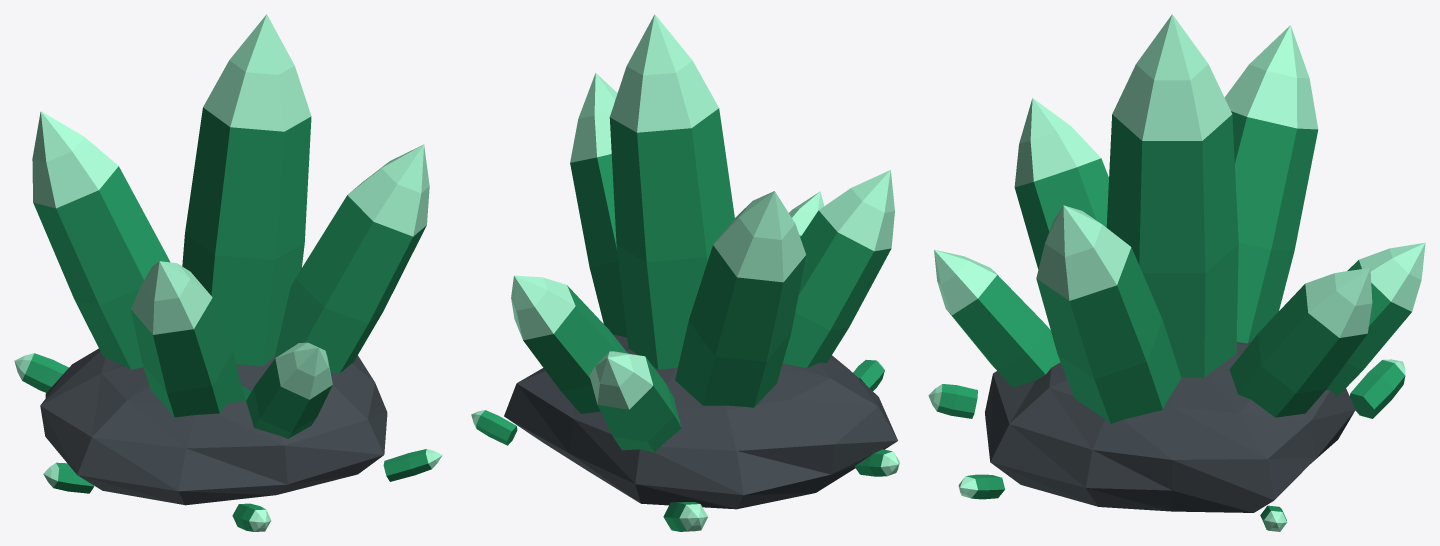
The model's file is jade-crystals.glb.
The picture shows the model from 3 angles, left to right: view 1: azimuth 30°, elevation 25°; view 2: azimuth 150°, elevation 25°; view 3: azimuth 270°, elevation 25°; orthographic projection. The views are drawn at different scales.
Visible parts, largest first — view 1: Crystals, Rock, Glow; view 2: Crystals, Rock, Glow; view 3: Crystals, Rock, Glow.
Boxes of the visible parts, x1,y1,x2,y2 form: Crystals: [22, 107, 431, 531]; Rock: [40, 348, 387, 505]; Glow: [14, 14, 442, 531]; Crystals: [476, 108, 892, 531]; Rock: [504, 334, 897, 509]; Glow: [471, 14, 899, 530]; Crystals: [937, 111, 1411, 530]; Rock: [985, 341, 1355, 512]; Glow: [928, 14, 1425, 531].
Size of the model in its own units: 5.38 by 5.89 by 5.72.
